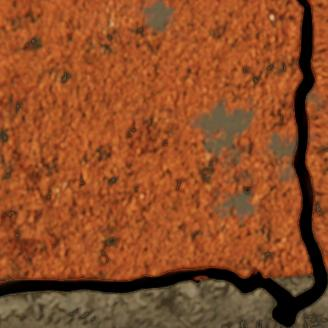broken_brick: (0, 0, 311, 283), (306, 0, 327, 271), (196, 277, 207, 279)
crack: (0, 0, 327, 327)
